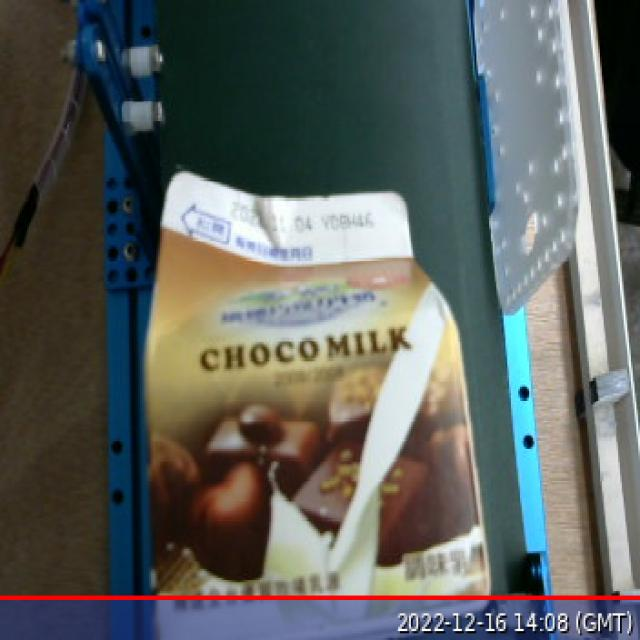non_white_jug: (130, 151, 518, 640)
